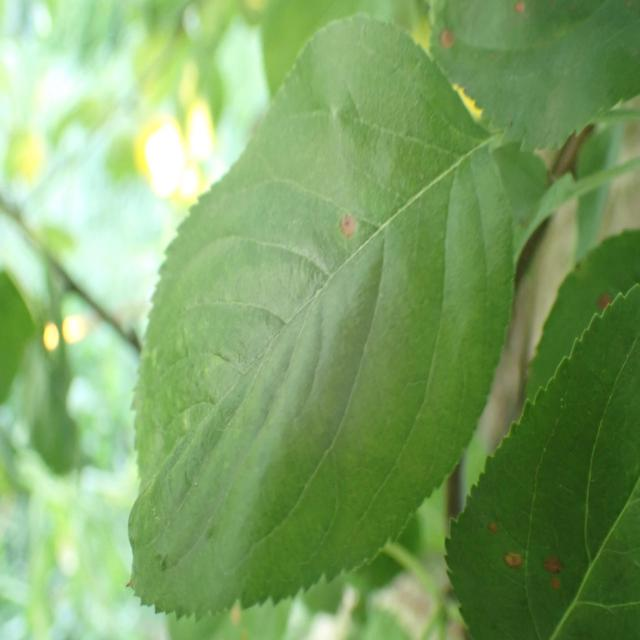frog-eye-leaf-spot: (127, 15, 516, 626), (445, 284, 640, 640), (424, 0, 640, 154)
